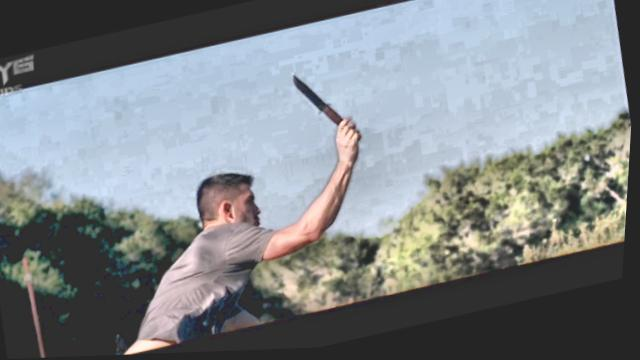knife: (280, 58, 370, 163)
